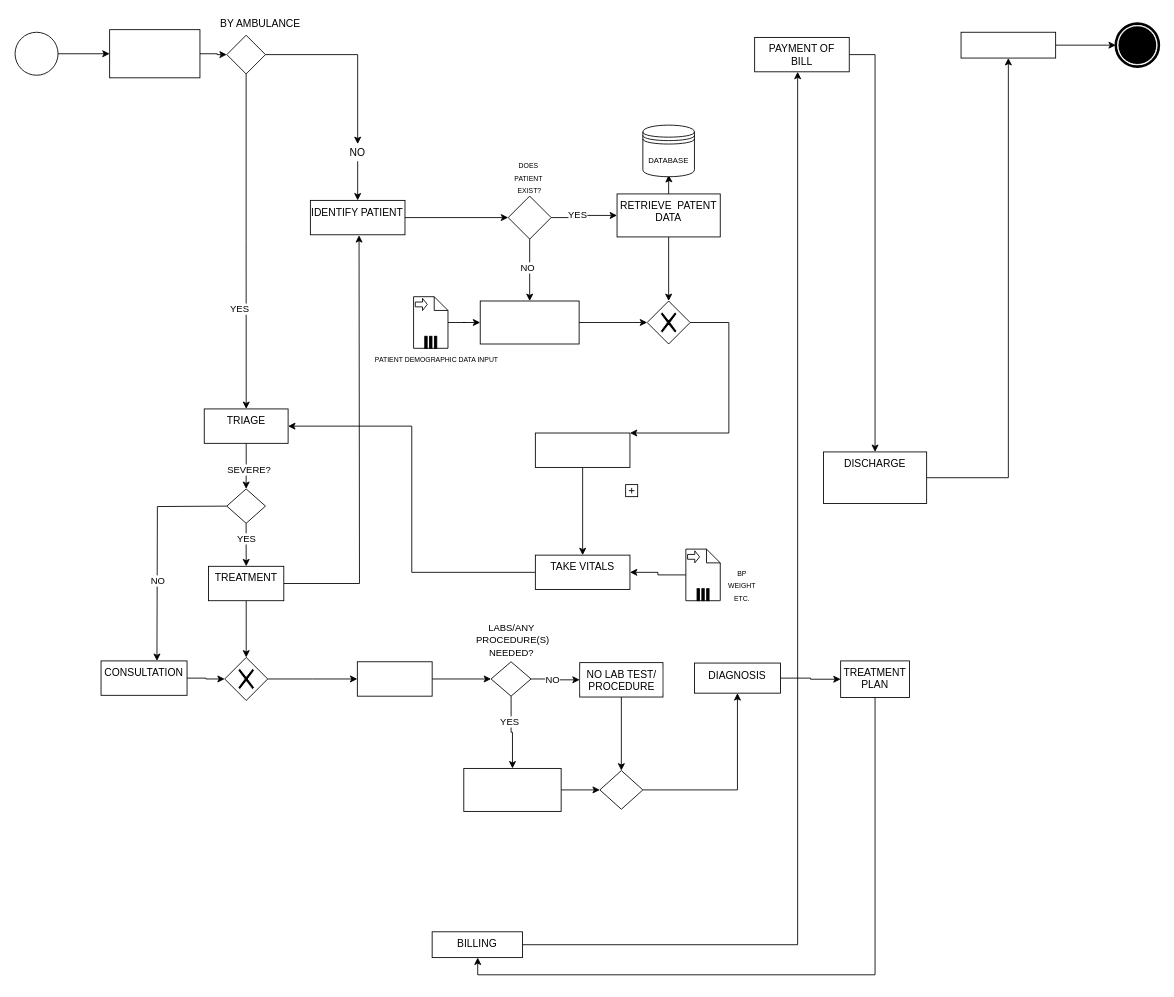
Some shapes in this 1174 by 997 pixel diagram are drawn without their labels. Each missing label, with the centre of its shape:
"ADMIT" belongs at point (582, 449).
"EVALUATE" belongs at point (394, 678).
"EXIT" belongs at point (1008, 44).
"LAB TEST(S) / PROCEDURE(S)" belongs at point (512, 789).
"PATIENT ARRIVES" belongs at point (154, 53).
"REGISTER PATIENT AS NEW" belongs at point (529, 322).
